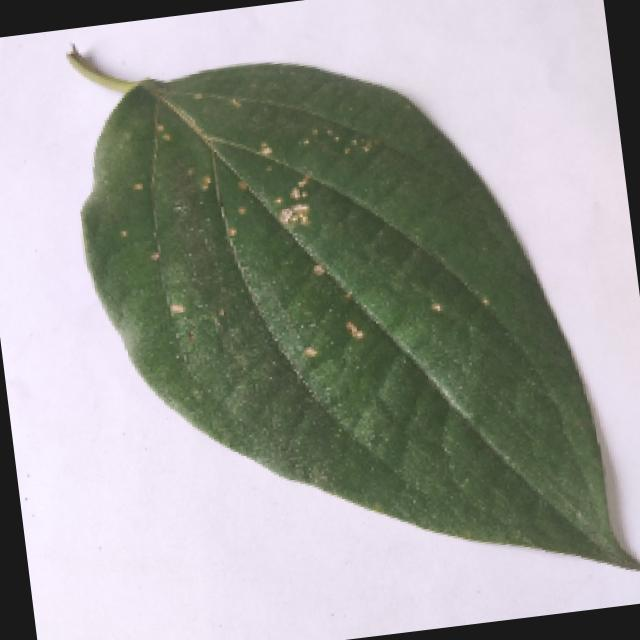pollu-disease: (46, 0, 640, 639)
